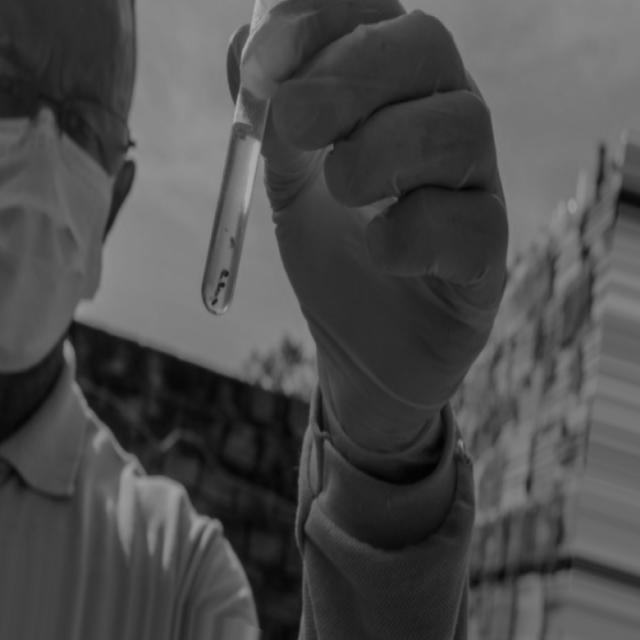larvas: (214, 281, 225, 298), (230, 233, 238, 250), (220, 269, 230, 282), (210, 296, 218, 306)
